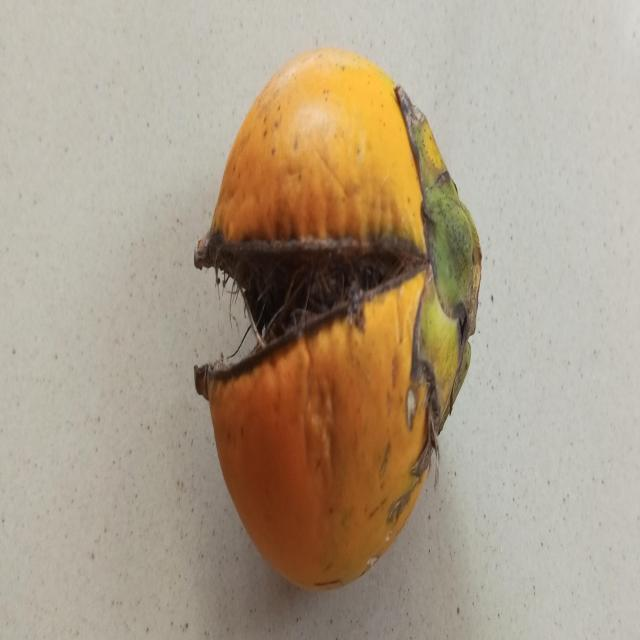damaged: (194, 48, 481, 589)
